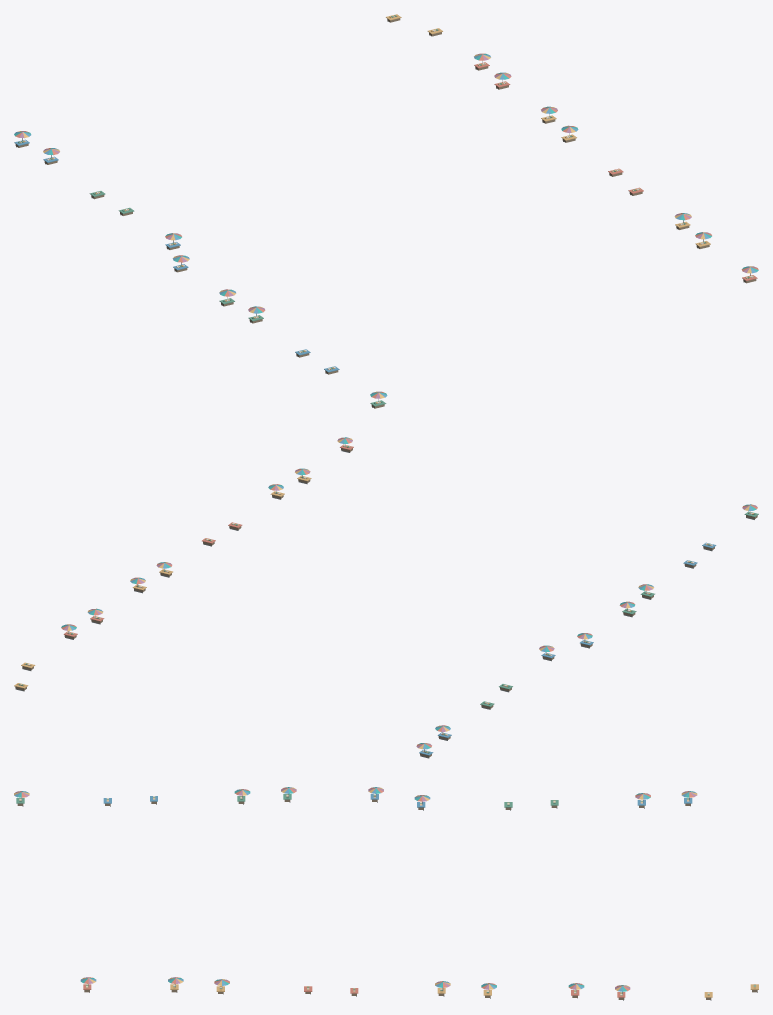
Rendered from farmgate-street-market.gltf.
The picture shows the model from 3 angles, top to bottom: view 1: azimuth 30°, elevation 25°; view 2: azimuth 150°, elevation 25°; view 3: azimuth 270°, elevation 25°; orthographic projection. The views are drawn at different scales.
Parts seen in each view (by area): view 1: farmgate-street-market; view 2: farmgate-street-market; view 3: farmgate-street-market.
Part boxes in pixels (box(x1,y1,x2,y2)): farmgate-street-market: box(14, 14, 758, 408); farmgate-street-market: box(14, 437, 758, 758); farmgate-street-market: box(14, 787, 758, 1000).
Size of the model in its own units: 94.4 by 2.9 by 145.
